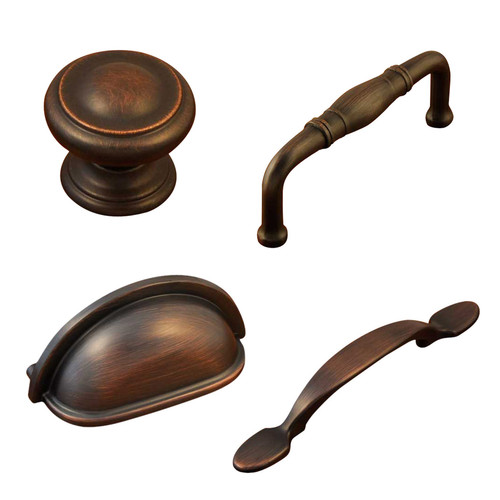handle: (251, 67, 461, 235), (257, 325, 473, 483), (12, 298, 250, 417), (36, 62, 202, 193)
